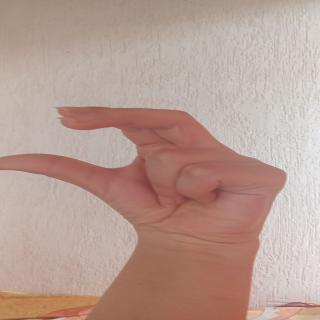DHELL: (5, 103, 302, 226)
